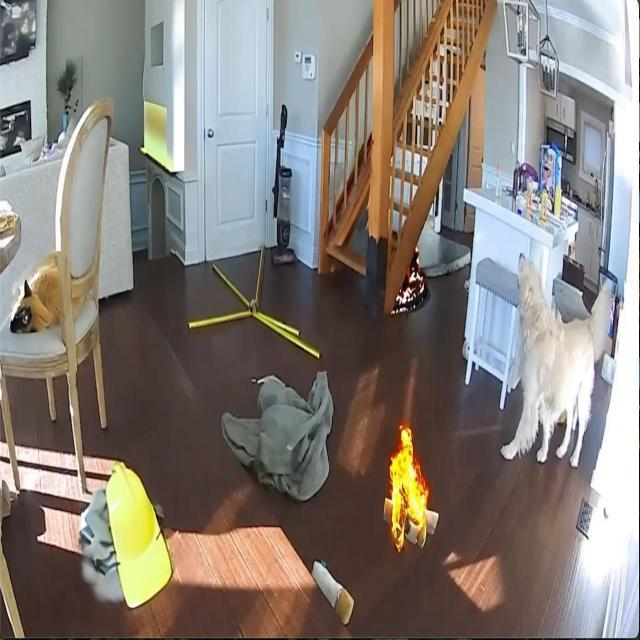smoke: (391, 422, 428, 540)
